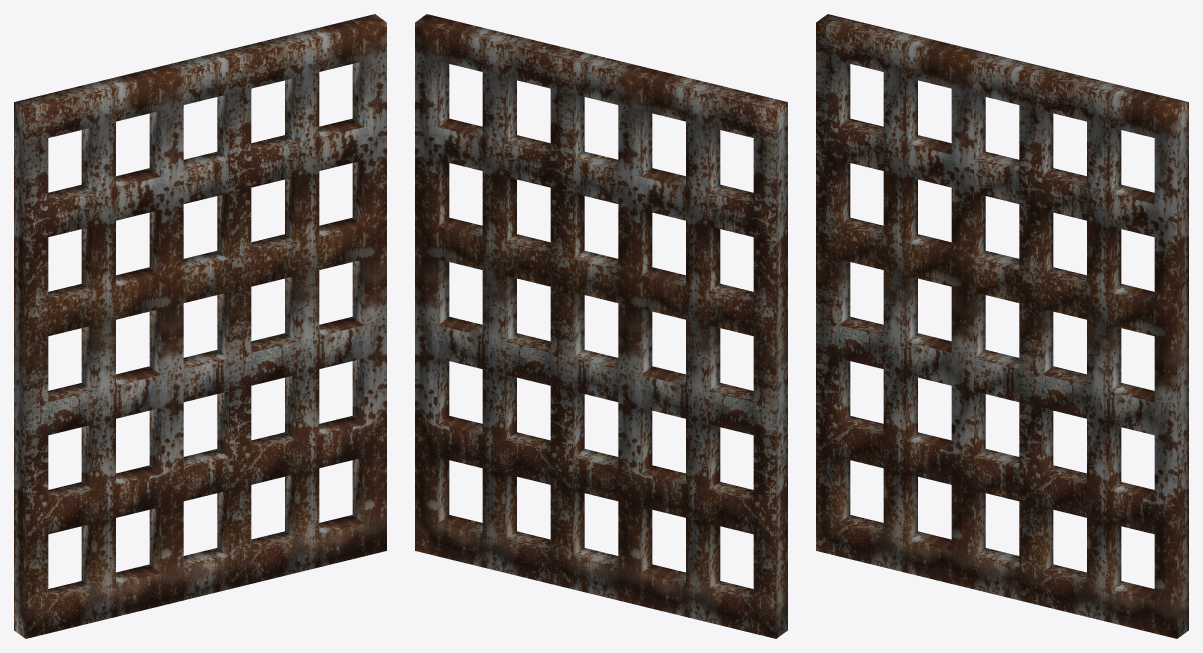
Rendered from Portão_do_Labirinto.fbx.
3 views of the same model, side by side, from view 1: azimuth 30°, elevation 25°; view 2: azimuth 150°, elevation 25°; view 3: azimuth 330°, elevation 25° (orthographic).
Visible parts, largest first — view 1: Portão; view 2: Portão; view 3: Portão.
Boxes of the visible parts, x1,y1,x2,y2 form: Portão: [14, 14, 386, 638]; Portão: [415, 14, 787, 638]; Portão: [816, 14, 1188, 638].
Size of the model in its own units: 358 by 500 by 20.02.
Materials: 1 (1 with a texture image).
